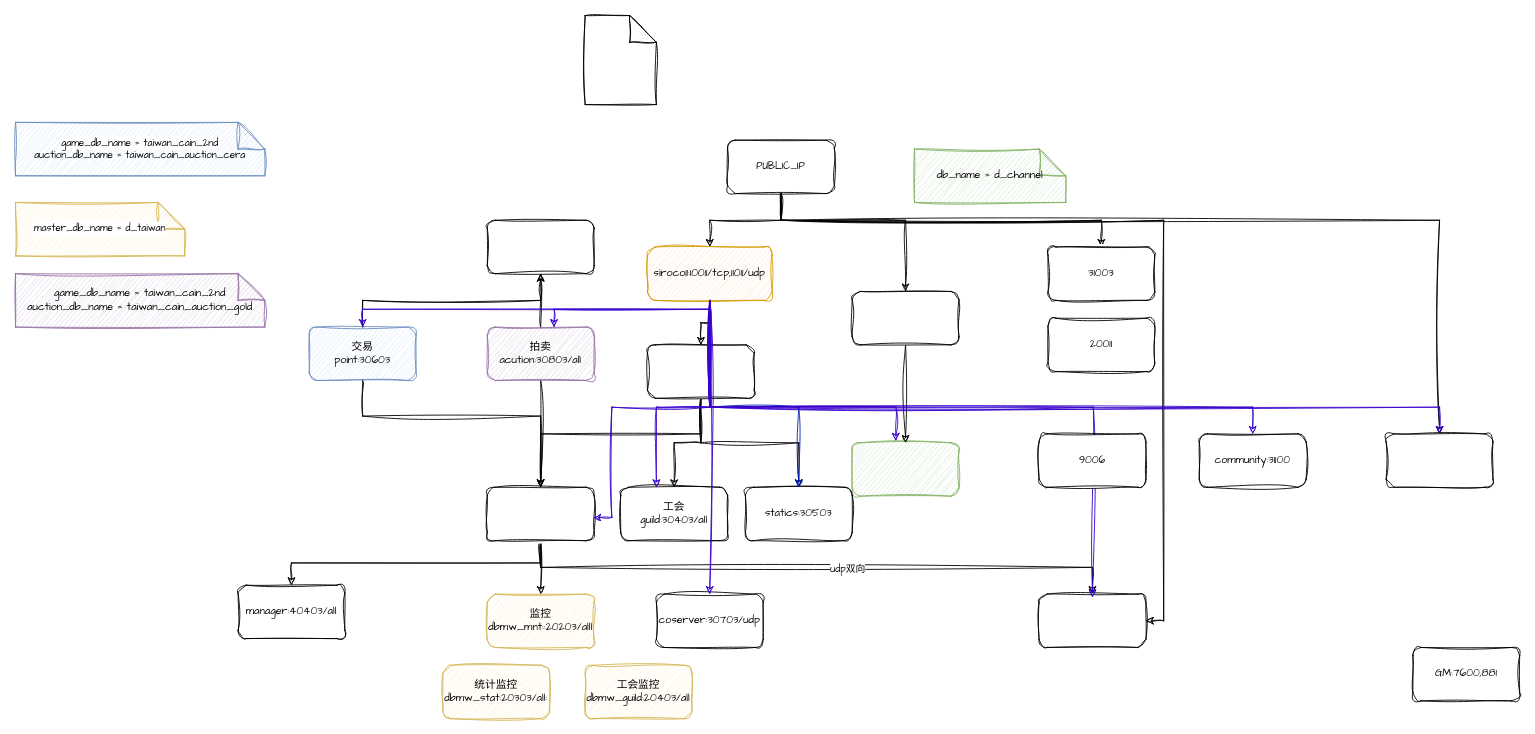
Image size: 1535x734. Some labels were removed from this diagram. Here are the shapes that lost their labels. From the top down, the centre of each, then its label:
At [620,60]: "https://github.com/1995chen/dnf/blob/main/build/Centos7-DNF/dnf.conf".
At [540,246]: "logserver:7009".
At [905,318]: "channel:7001/all".
At [700,371]: "game".
At [905,469]: "bridge:7000/all".
At [1439,460]: "stun:2311,2312,2313".
At [540,513]: "monitor:30303/all;".
At [1092,620]: "中继 relay:7200/all".
